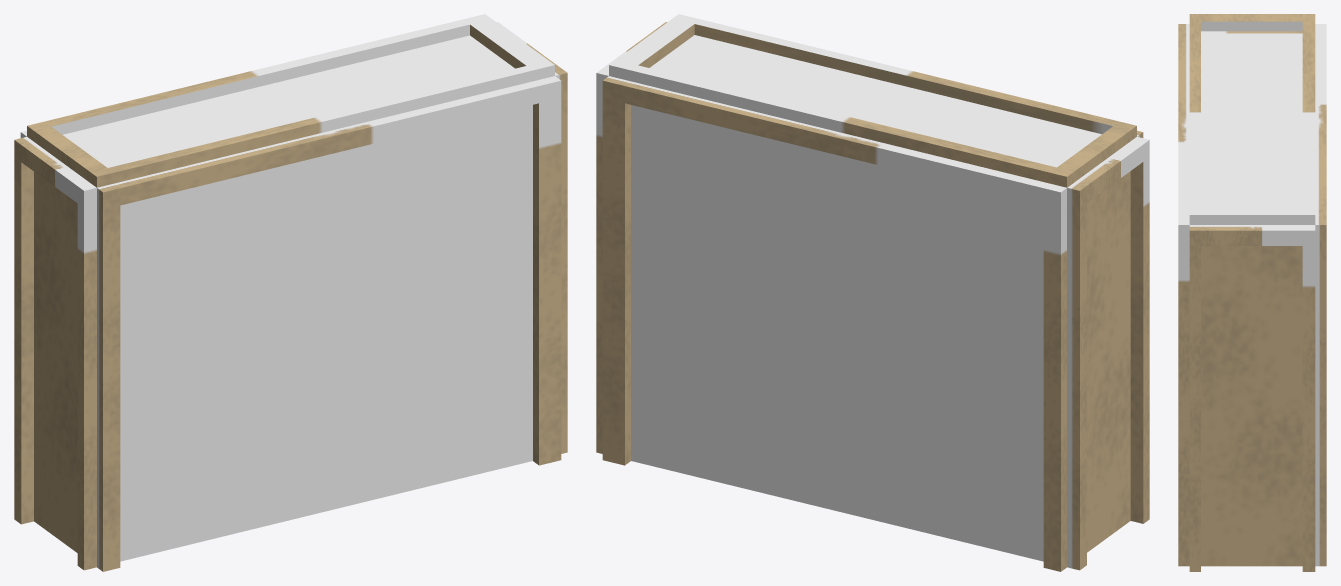
File: Destuctable_Wall2.fbx
3 views of the same model, side by side, from view 1: azimuth 30°, elevation 25°; view 2: azimuth 150°, elevation 25°; view 3: azimuth 270°, elevation 25° (orthographic). The views are drawn at different scales.
Visible parts, largest first — view 1: Destructable_Wall; view 2: Destructable_Wall; view 3: Destructable_Wall.
Part boxes in pixels (x1,y1,x2,y2): Destructable_Wall: (14,14,567,571); Destructable_Wall: (596,14,1149,571); Destructable_Wall: (1178,14,1326,571).
Bounding box in the file's own units: 400 × 309 × 118.
